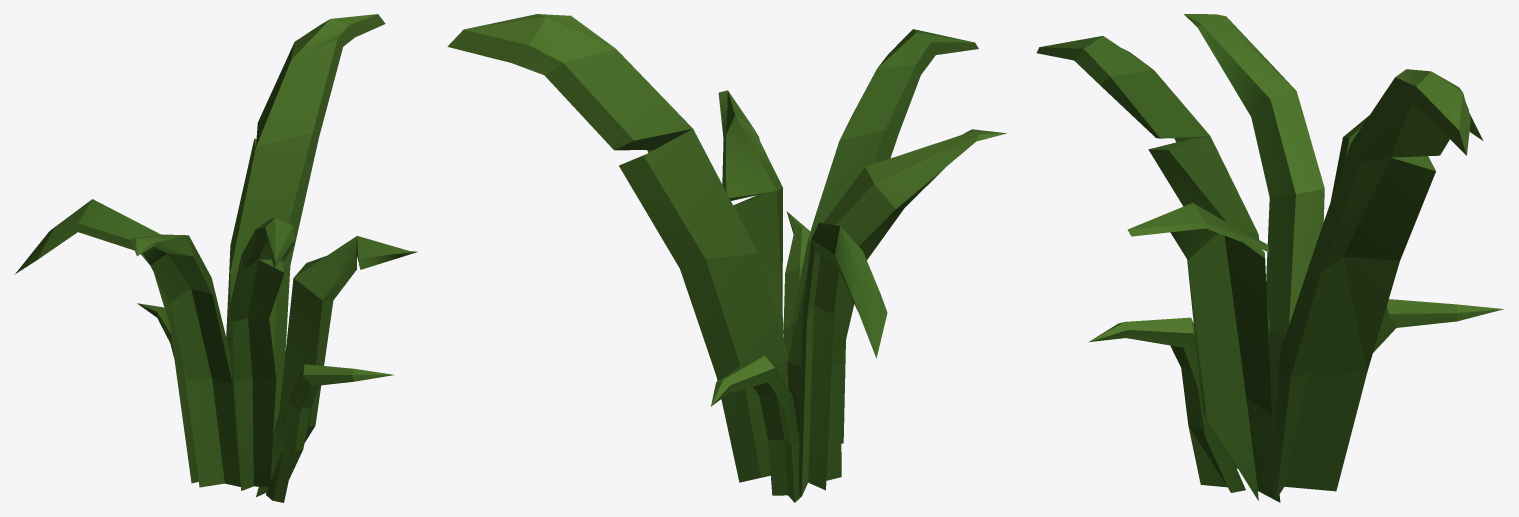
File: green grass.glb
3 renders of one model, left to right at view 1: azimuth 30°, elevation 25°; view 2: azimuth 150°, elevation 25°; view 3: azimuth 270°, elevation 25°, orthographic. The views are drawn at different scales.
Parts seen in each view (by area): view 1: Grass.002; view 2: Grass.002; view 3: Grass.002.
Boxes of the visible parts, <box> form: Grass.002: <box>15,14,417,502</box>; Grass.002: <box>447,14,1006,502</box>; Grass.002: <box>1036,14,1503,502</box>.
Bounding box in the file's own units: 2.82 × 2.92 × 2.43.
Materials: 1 (1 with a texture image).
